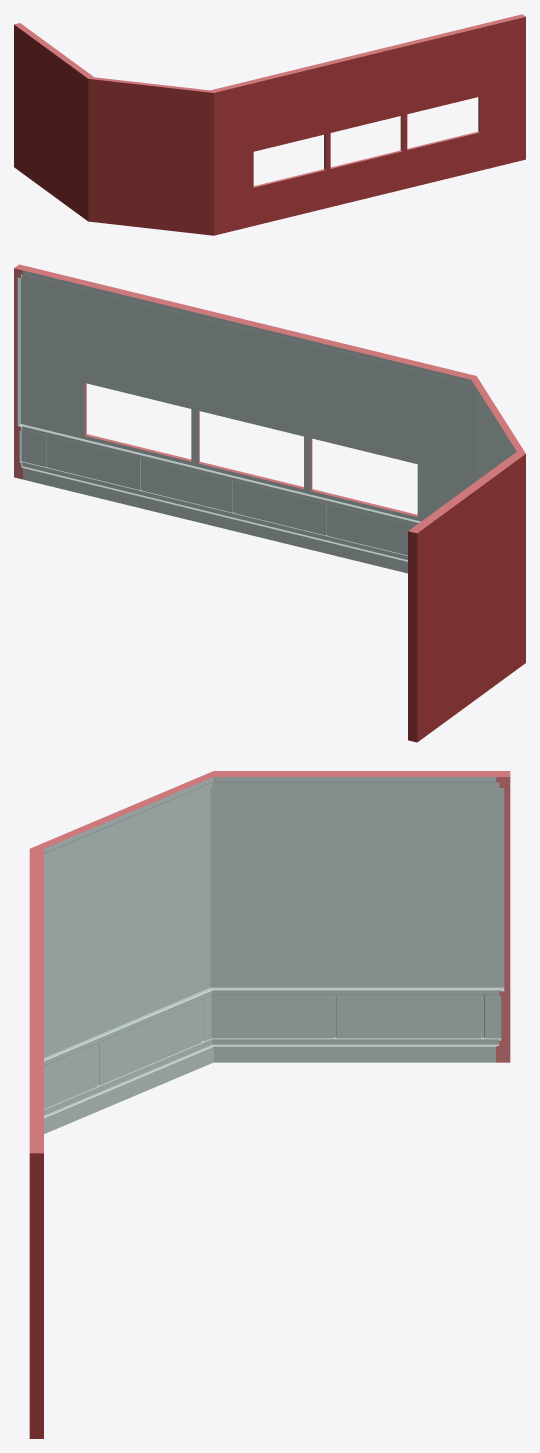
The model's file is DiningRoom_Wall.fbx.
3 renders of one model, top to bottom at view 1: azimuth 30°, elevation 25°; view 2: azimuth 150°, elevation 25°; view 3: azimuth 270°, elevation 25°, orthographic. The views are drawn at different scales.
Visible parts, largest first — view 1: polySurface294; view 2: polySurface294; view 3: polySurface294.
Boxes of the visible parts, left/top/right/bottom form: polySurface294: left=14, top=14, right=525, bottom=235; polySurface294: left=14, top=264, right=525, bottom=742; polySurface294: left=29, top=771, right=510, bottom=1438.
Size of the model in its own units: 149 by 52.01 by 79.37.
